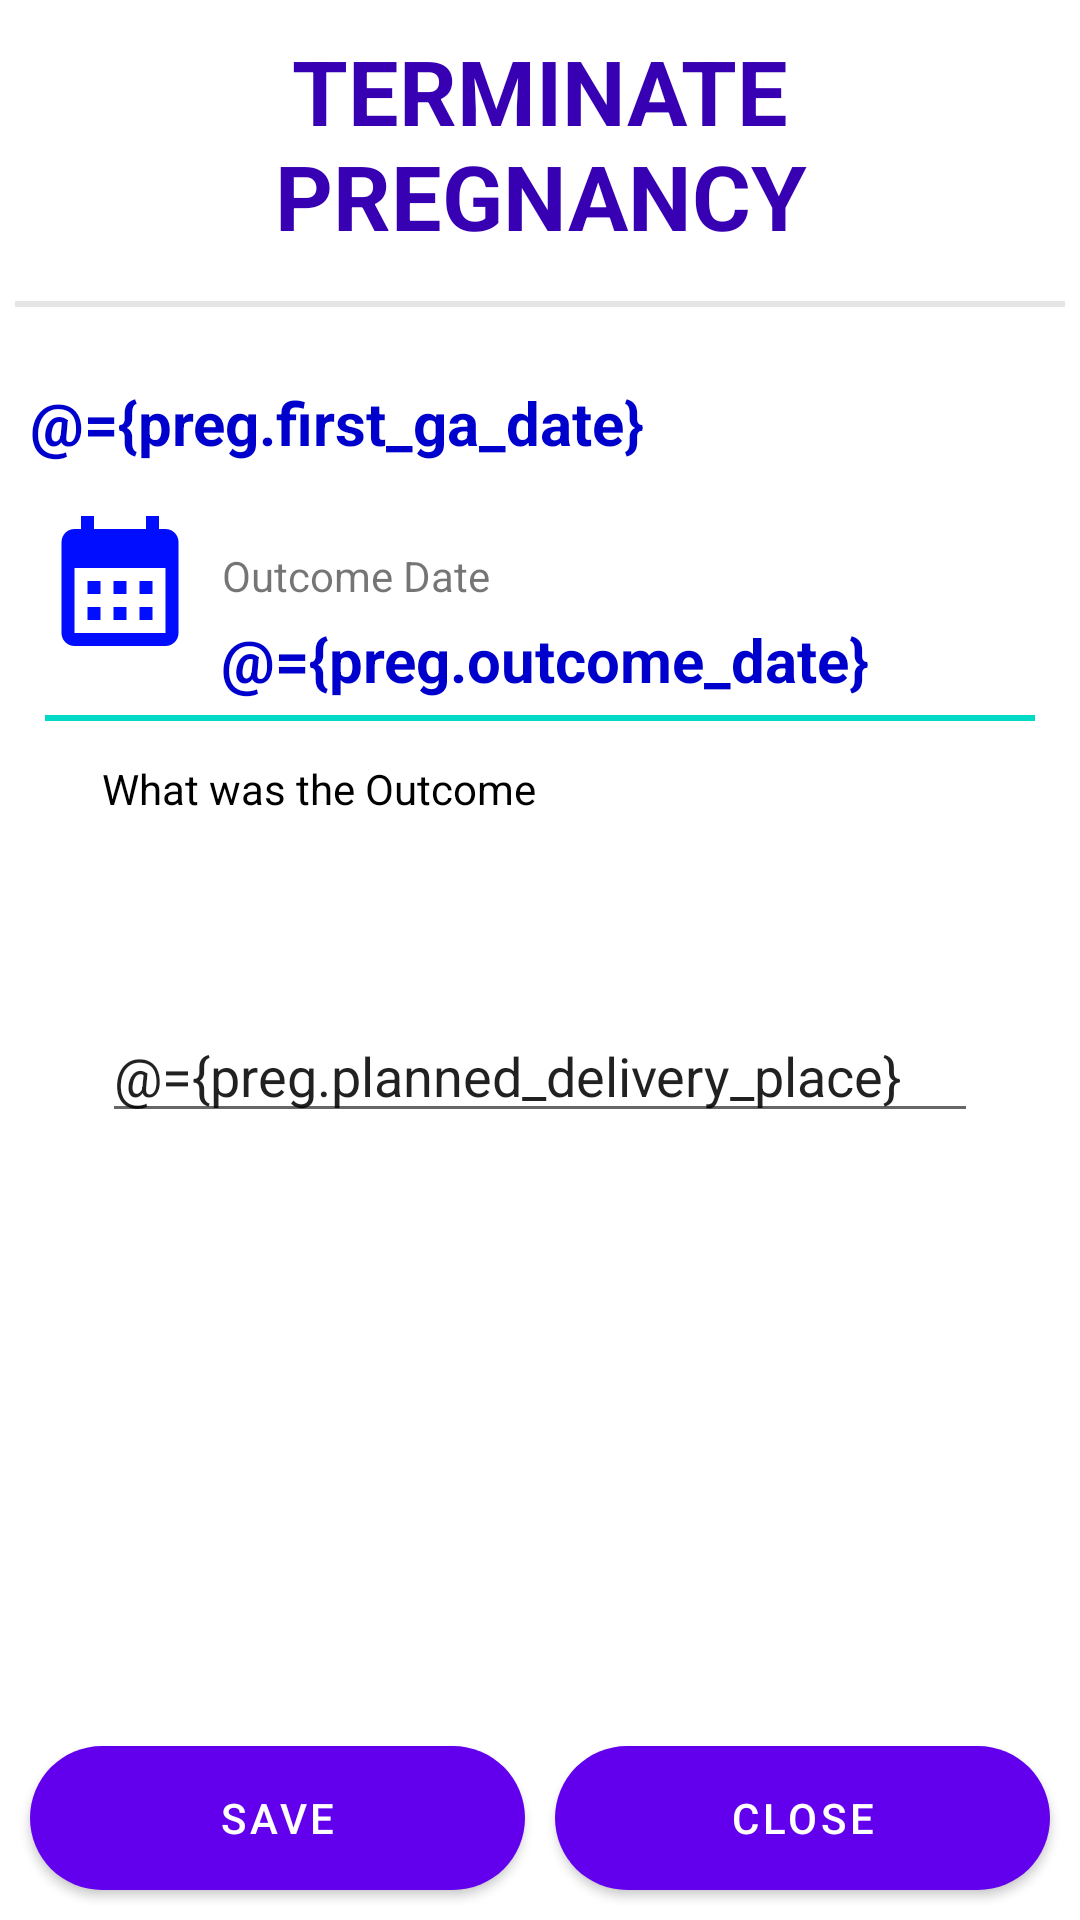

Icons on this 1080x1920 Android screen, each with its box as bbox(x1, y1, x2, y2):
calendar schedule: bbox(61, 516, 179, 646)
